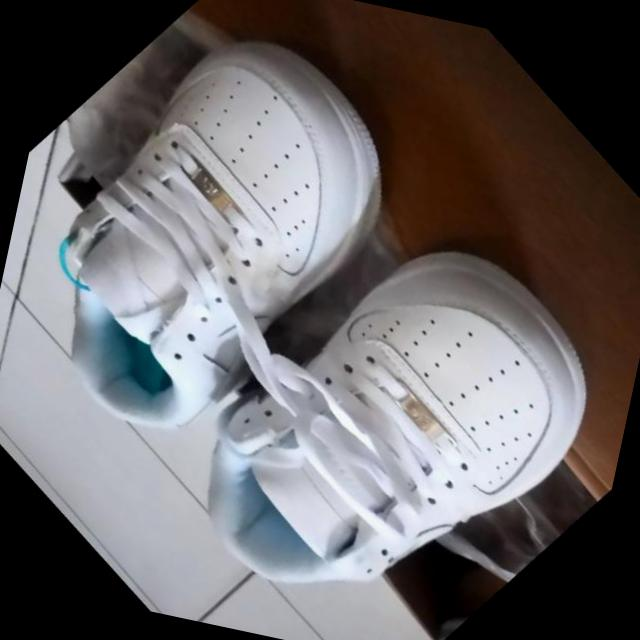nike_fake_airforce: (122, 149, 640, 640), (0, 0, 485, 523)
